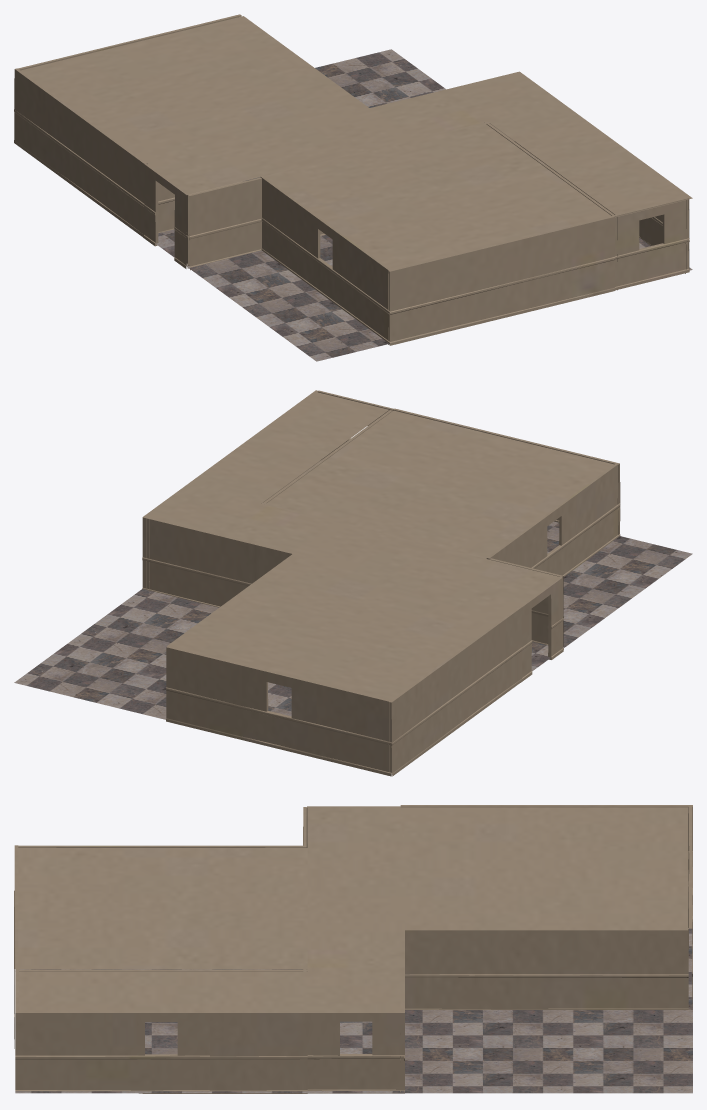
File: level02.fbx
The picture shows the model from 3 angles, top to bottom: view 1: azimuth 30°, elevation 25°; view 2: azimuth 150°, elevation 25°; view 3: azimuth 270°, elevation 25°; orthographic projection. The views are drawn at different scales.
Visible parts, largest first — view 1: building 1; view 2: building 1; view 3: building 1.
Part boxes in pixels (left/top/right/bottom): building 1: left=14, top=14, right=692, bottom=361; building 1: left=14, top=390, right=692, bottom=776; building 1: left=14, top=805, right=692, bottom=1093.
Bounding box in the file's own units: 1605 × 303 × 2223.
